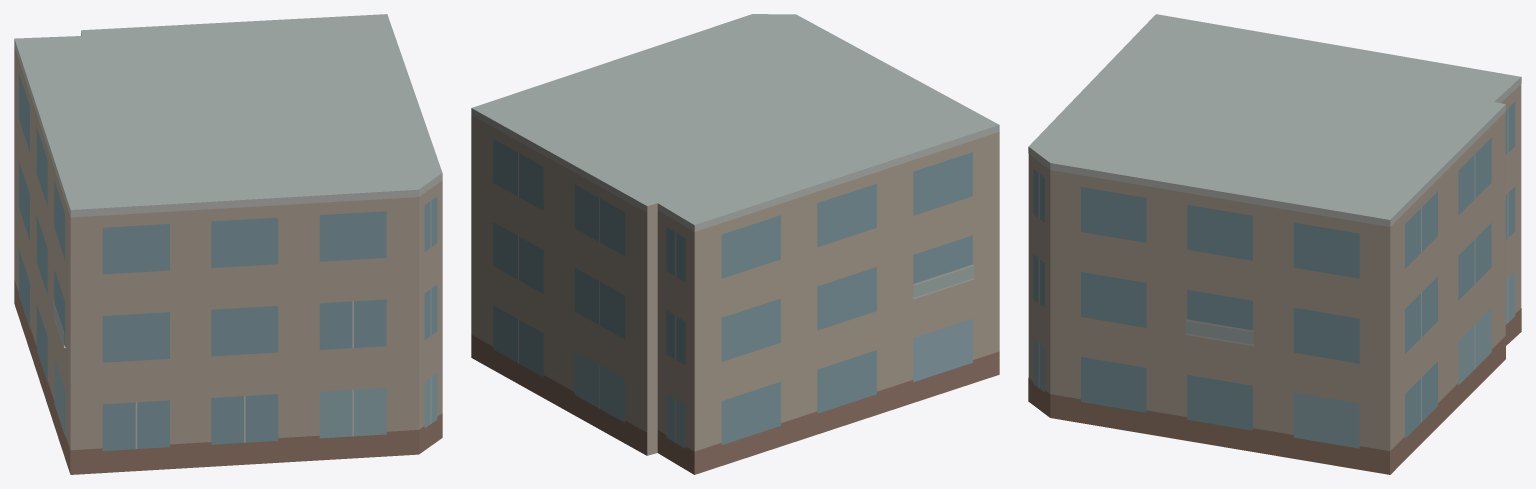
The model's file is survey-upis-32681130.glb.
3 views of the same model, side by side, from view 1: azimuth 30°, elevation 25°; view 2: azimuth 150°, elevation 25°; view 3: azimuth 270°, elevation 25° (orthographic). The views are drawn at different scales.
Visible parts, largest first — view 1: survey-upis-32681130.tmp; view 2: survey-upis-32681130.tmp; view 3: survey-upis-32681130.tmp.
Boxes of the visible parts, <box> form: survey-upis-32681130.tmp: <box>14,14,442,474</box>; survey-upis-32681130.tmp: <box>471,14,999,474</box>; survey-upis-32681130.tmp: <box>1028,14,1521,474</box>.
Size of the model in its own units: 15.26 by 8.8 by 15.43.
